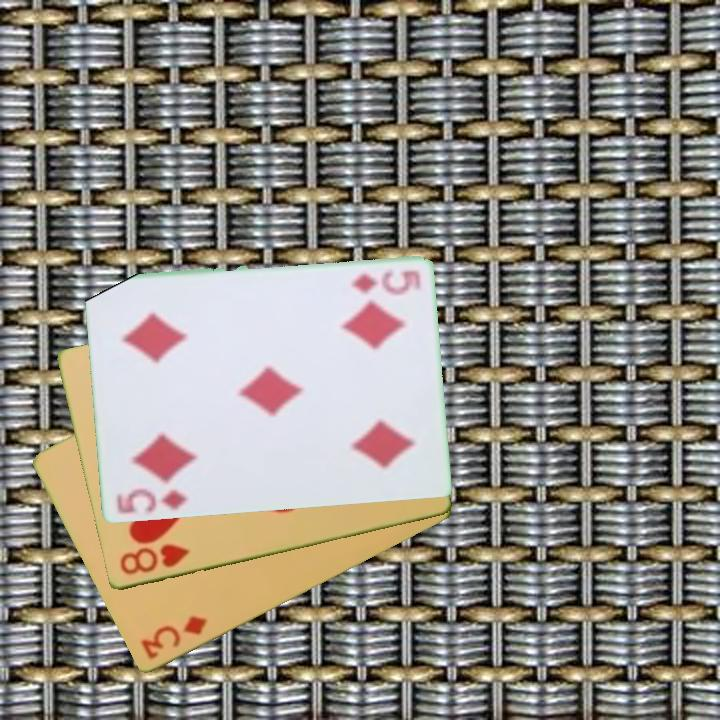3d: (136, 612, 210, 663)
5d: (112, 485, 189, 517), (348, 267, 424, 294)
8h: (116, 541, 192, 579)
